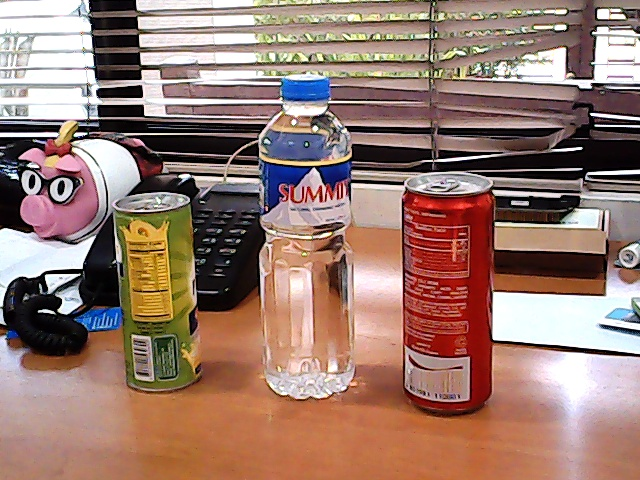Cola: (394, 165, 502, 422)
Pine Juice: (115, 187, 200, 402)
Summit Water: (256, 75, 360, 406)
